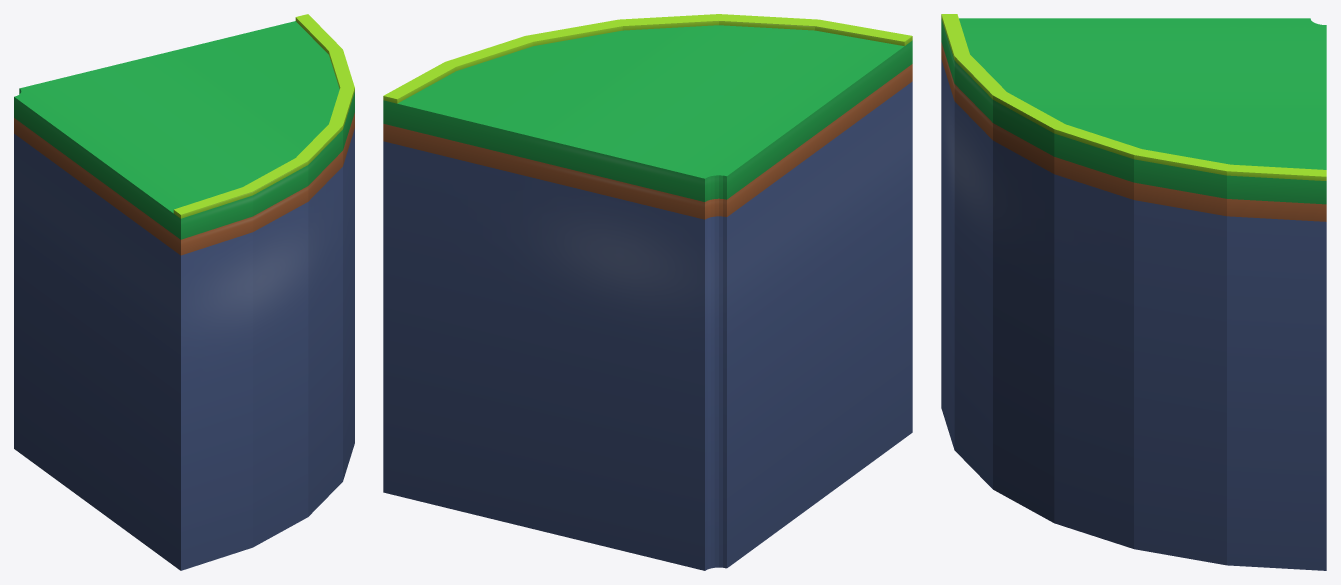
File: CliffCorner.fbx
The picture shows the model from 3 angles, left to right: view 1: azimuth 30°, elevation 25°; view 2: azimuth 150°, elevation 25°; view 3: azimuth 270°, elevation 25°; orthographic projection. The views are drawn at different scales.
Parts seen in each view (by area): view 1: CliffCorner; view 2: CliffCorner; view 3: CliffCorner.
Part boxes in pixels (bbox=[...]): CliffCorner: bbox=[14, 14, 354, 570]; CliffCorner: bbox=[383, 14, 912, 570]; CliffCorner: bbox=[941, 14, 1326, 570].
Bounding box in the file's own units: 12 × 13.55 × 12.
1 material, 1 textured.
